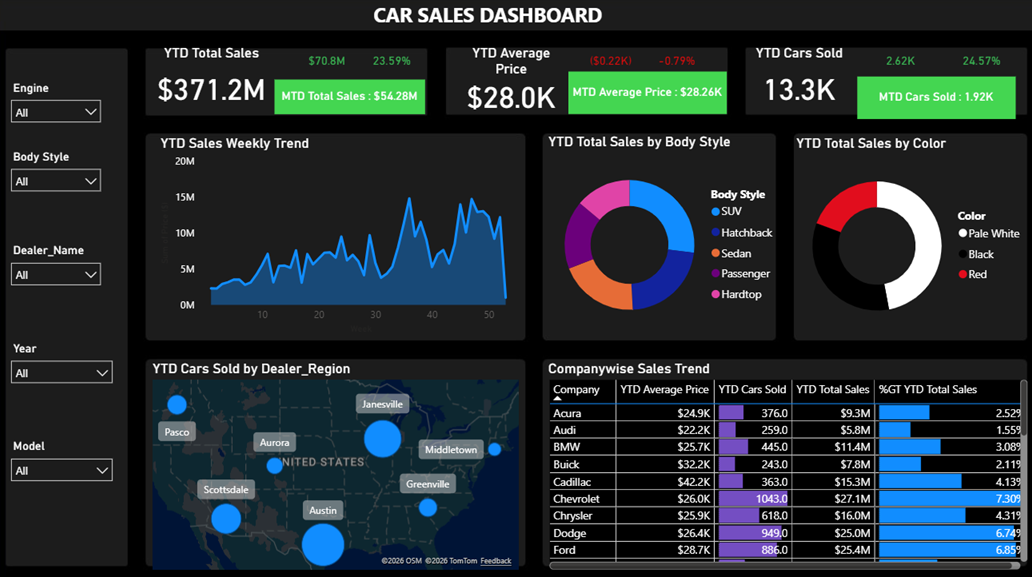

This screenshot's page, from the dashboard's own definition file:
{"tool":"powerbi","page":{"name":"Page 1","canvas":[1280,720],"ordinal":0},"visuals":[{"type":"card","title":"YTD Total Sales","fields":{"Values":["car_data.YTD Total Sales"]},"box":[190.7,57.6,153.7,85.1],"z":0},{"type":"card","fields":{"Values":["car_data.YOY Sales Growth"]},"box":[369.1,57.6,79.6,42.5],"z":1000},{"type":"card","fields":{"Values":["car_data.YOY Sales Growth"]},"box":[448.7,57.6,79.6,42.5],"z":2000},{"type":"card","fields":{"Values":["car_data.MTD Total Sales KPI"]},"box":[344.4,100.2,183.9,42.5],"z":3000},{"type":"card","title":"YTD Average Price","fields":{"Values":["car_data.YTD Average Price"]},"box":[562.6,57.6,141.3,85.1],"z":4000},{"type":"card","fields":{"Values":["car_data.Average Price Difference"]},"box":[716.3,57.6,79.6,42.5],"z":5000},{"type":"card","fields":{"Values":["car_data.YOY Average Price Difference"]},"box":[795.9,57.6,79.6,42.5],"z":6000},{"type":"card","fields":{"Values":["car_data.MTD Average Price KPI"]},"box":[703.9,90.6,193.5,52.1],"z":7000},{"type":"card","title":"YTD Cars Sold","fields":{"Values":["car_data.YTD Cars Sold"]},"box":[915.3,57.6,141.3,85.1],"z":8000},{"type":"card","fields":{"Values":["car_data.Cars Sold Difference"]},"box":[1070.3,57.6,79.6,42.5],"z":9000},{"type":"card","fields":{"Values":["car_data.YOY Cars Sold"]},"box":[1169.1,57.6,79.6,42.5],"z":10000},{"type":"card","fields":{"Values":["car_data.MTD Cars Sold KPI"]},"box":[1056.6,96.1,193.5,52.1],"z":11000},{"type":"areaChart","title":"YTD Sales Weekly Trend","fields":{"Category":["Calendar Table.Week"],"Y":["Sum(car_data.Price ($))"]},"box":[200.3,167.4,448.7,248.4],"z":12000},{"type":"donutChart","fields":{"Category":["car_data.Body Style"],"Y":["car_data.YTD Total Sales"]},"box":[673.8,166,292.3,253.9],"z":13000},{"type":"donutChart","fields":{"Category":["car_data.Color"],"Y":["car_data.YTD Total Sales"]},"box":[977,167.4,292.3,253.9],"z":14000},{"type":"azureMap","fields":{"Category":["car_data.Dealer_Region"],"Size":["car_data.YTD Cars Sold"]},"box":[190.7,443.2,458.3,260.7],"z":15000},{"type":"tableEx","title":"Companywise Sales Trend","fields":{"Values":["car_data.Company","car_data.YTD Average Price","car_data.YTD Cars Sold","car_data.YTD Total Sales","Divide(car_data.YTD Total Sales, ScopedEval(car_data.YTD Total Sales, []))"]},"box":[673.8,443.2,595.5,260.7],"z":16000},{"type":"slicer","title":"Body Style","fields":{"Values":["car_data.Body Style"]},"box":[12.3,181.1,130.4,93.3],"z":17000},{"type":"slicer","title":"Dealer Name","fields":{"Values":["car_data.Dealer_Name"]},"box":[12.3,295,130.4,91.9],"z":18000},{"type":"slicer","fields":{"Values":["car_data.Engine"]},"box":[12.3,96.1,130.4,71.4],"z":19000},{"type":"textbox","box":[381.5,0,454.2,42.5],"z":20000},{"type":"slicer","fields":{"Values":["Calendar Table.Year"]},"box":[12.3,415.8,144.1,78.2],"z":21000},{"type":"slicer","fields":{"Values":["car_data.Model"]},"box":[12.3,535.2,144.1,78.2],"z":22000}]}

Visuals, with their boxes in screenshot pixels (x1, y1, x2, y2), scaled from the page's 1280x720 canvas onto the 1032x577 screenshot:
"YTD Total Sales" card: BBox(154, 46, 278, 114)
card - car_data.YOY Sales Growth: BBox(298, 46, 362, 80)
card - car_data.YOY Sales Growth: BBox(362, 46, 426, 80)
card - car_data.MTD Total Sales KPI: BBox(278, 80, 426, 114)
"YTD Average Price" card: BBox(454, 46, 568, 114)
card - car_data.Average Price Difference: BBox(578, 46, 642, 80)
card - car_data.YOY Average Price Difference: BBox(642, 46, 706, 80)
card - car_data.MTD Average Price KPI: BBox(568, 73, 724, 114)
"YTD Cars Sold" card: BBox(738, 46, 852, 114)
card - car_data.Cars Sold Difference: BBox(863, 46, 927, 80)
card - car_data.YOY Cars Sold: BBox(943, 46, 1007, 80)
card - car_data.MTD Cars Sold KPI: BBox(852, 77, 1008, 119)
"YTD Sales Weekly Trend" areaChart: BBox(161, 134, 523, 333)
donutChart - car_data.Body Style x car_data.YTD Total Sales: BBox(543, 133, 779, 337)
donutChart - car_data.Color x car_data.YTD Total Sales: BBox(788, 134, 1023, 338)
azureMap - car_data.Dealer_Region x car_data.YTD Cars Sold: BBox(154, 355, 523, 564)
"Companywise Sales Trend" tableEx: BBox(543, 355, 1023, 564)
"Body Style" slicer: BBox(10, 145, 115, 220)
"Dealer Name" slicer: BBox(10, 236, 115, 310)
slicer - car_data.Engine: BBox(10, 77, 115, 134)
textbox: BBox(308, 0, 674, 34)
slicer - Calendar Table.Year: BBox(10, 333, 126, 396)
slicer - car_data.Model: BBox(10, 429, 126, 492)
